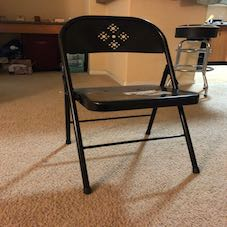chair: (46, 14, 217, 189)
